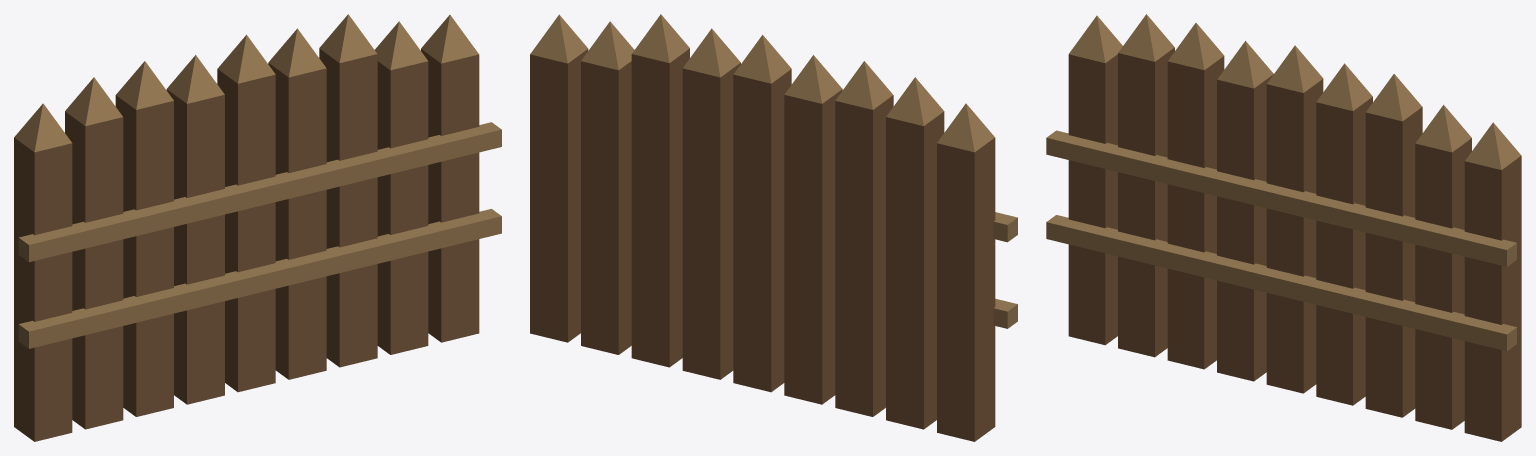
The model's file is palisade.glb.
3 views of the same model, side by side, from view 1: azimuth 30°, elevation 25°; view 2: azimuth 150°, elevation 25°; view 3: azimuth 330°, elevation 25° (orthographic). The views are drawn at different scales.
Parts seen in each view (by area): view 1: palisade; view 2: palisade; view 3: palisade.
Part boxes in pixels (x1,y1,x2,y2): palisade: (14, 14, 501, 441); palisade: (530, 14, 1017, 441); palisade: (1046, 14, 1521, 441).
Size of the model in its own units: 4 by 2.79 by 0.425.
